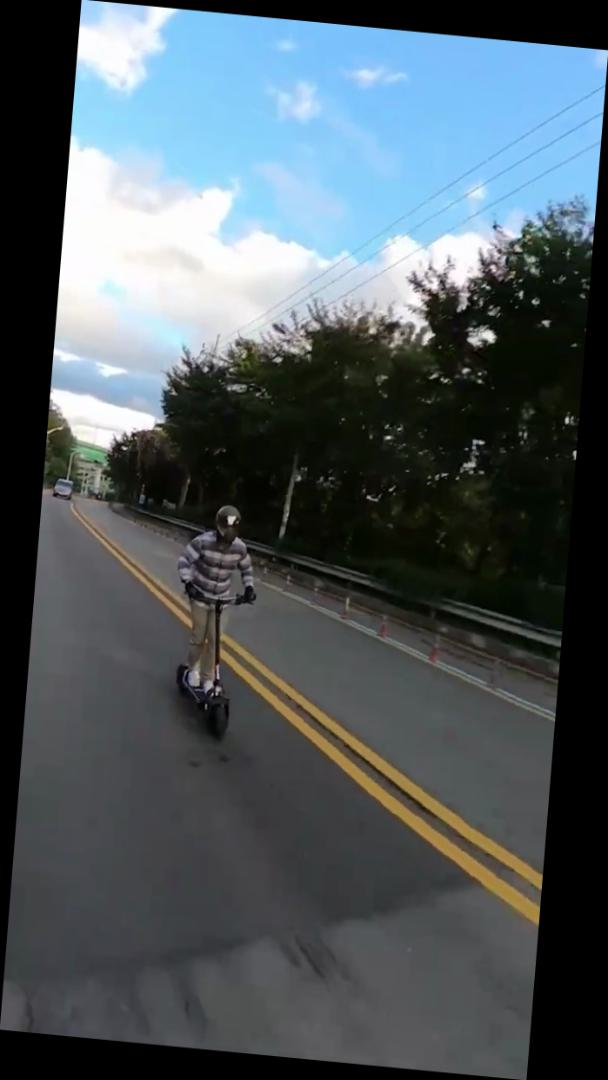helmet: (161, 493, 267, 741)
